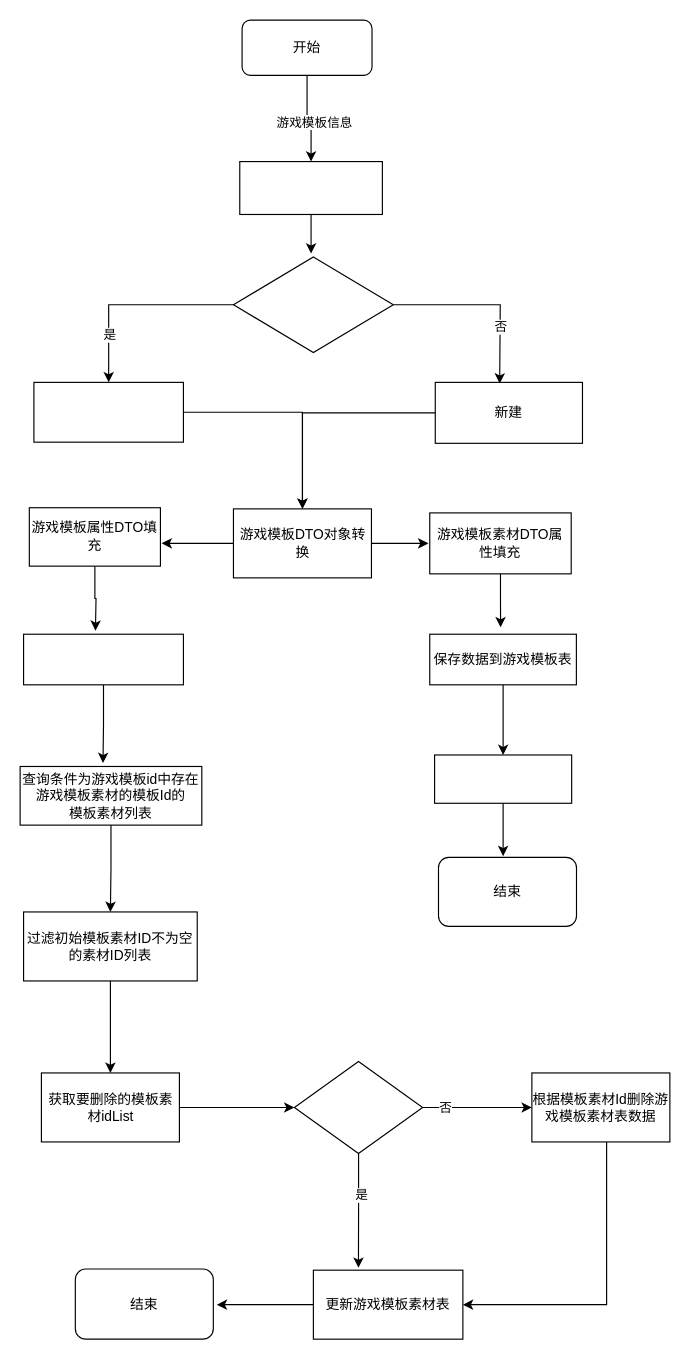
The diagram is 690 pixels wide and 1359 high, and some of its shapes have lost their labels. Here are the shapes that lost their labels. From the top down, the centre of each, then its label:
At point (310, 187): "初始化游戏模板".
At point (312, 304): "是否存在模板id".
At point (108, 411): "更新".
At point (102, 659): "更新数据到游戏模板表".
At point (502, 778): "批量数据保到游戏模板素材表".
At point (358, 1106): "列表是否为空".
